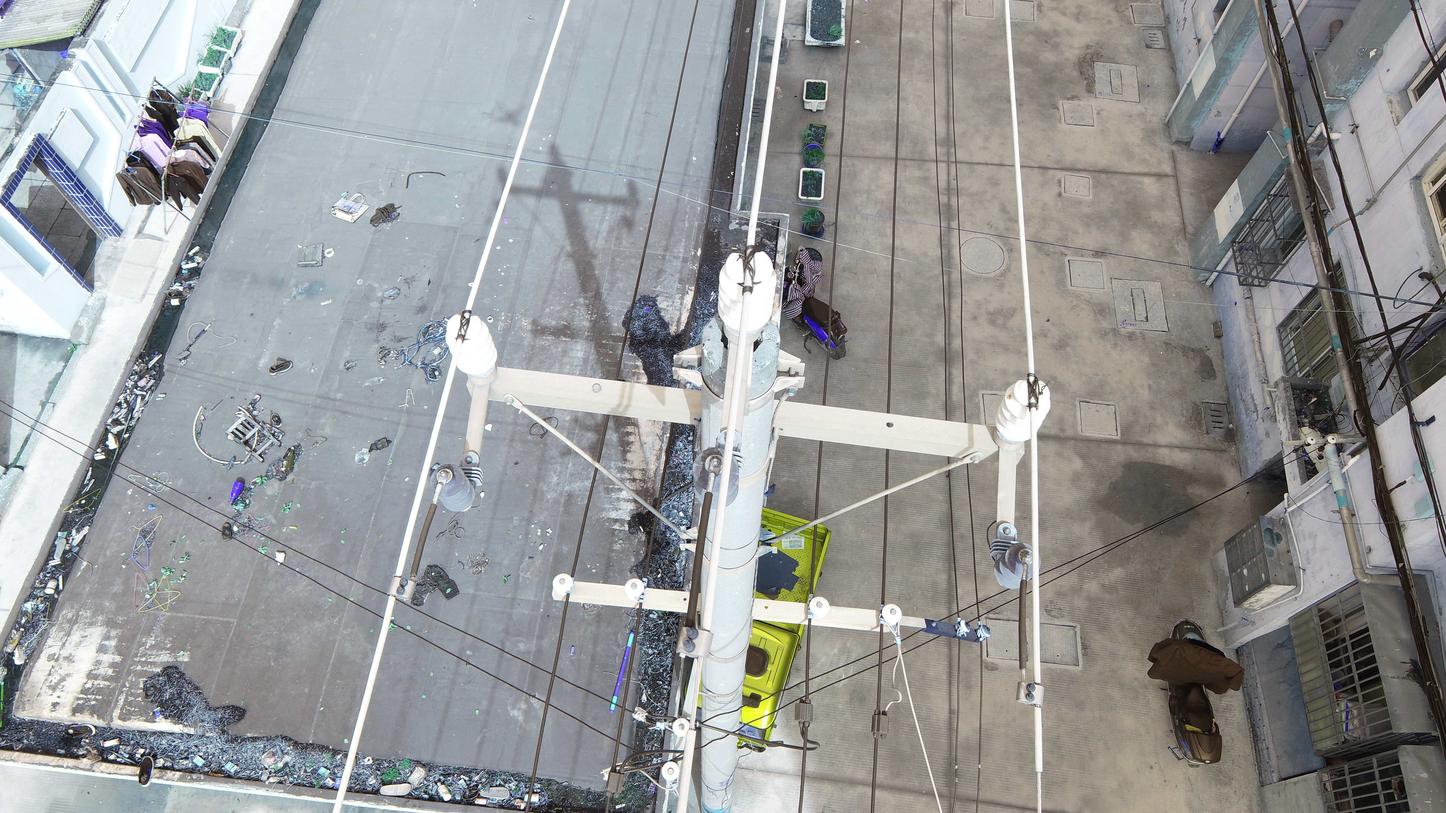severe_soiling_no_discharge_whole: (976, 624, 992, 638)
